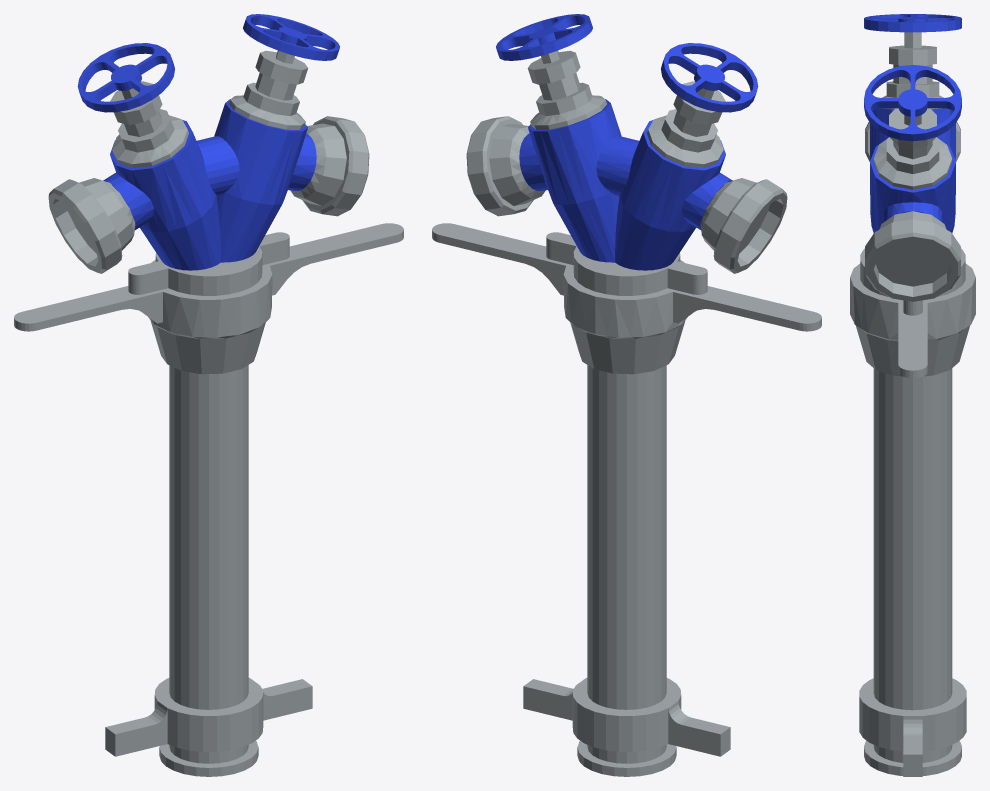
File: V-Wasseranschluss_dae.dae
The picture shows the model from 3 angles, left to right: view 1: azimuth 30°, elevation 25°; view 2: azimuth 150°, elevation 25°; view 3: azimuth 270°, elevation 25°; orthographic projection.
Visible parts, largest first — view 1: 32yOTpy9fFWvl4XC9R28TY; view 2: 32yOTpy9fFWvl4XC9R28TY; view 3: 32yOTpy9fFWvl4XC9R28TY.
Boxes of the visible parts, box(x1,y1,x2,y2) form: 32yOTpy9fFWvl4XC9R28TY: box(14, 14, 403, 776); 32yOTpy9fFWvl4XC9R28TY: box(432, 14, 821, 776); 32yOTpy9fFWvl4XC9R28TY: box(850, 14, 975, 776).
Bounding box in the file's own units: 0.45 × 0.1281 × 0.8.
